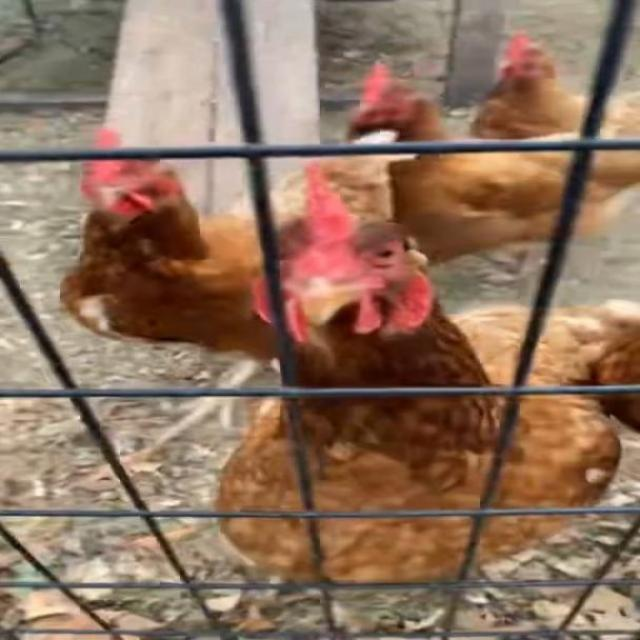Chicken: (216, 160, 635, 605), (60, 126, 415, 435), (341, 62, 640, 269), (469, 34, 640, 147), (585, 309, 640, 432)
